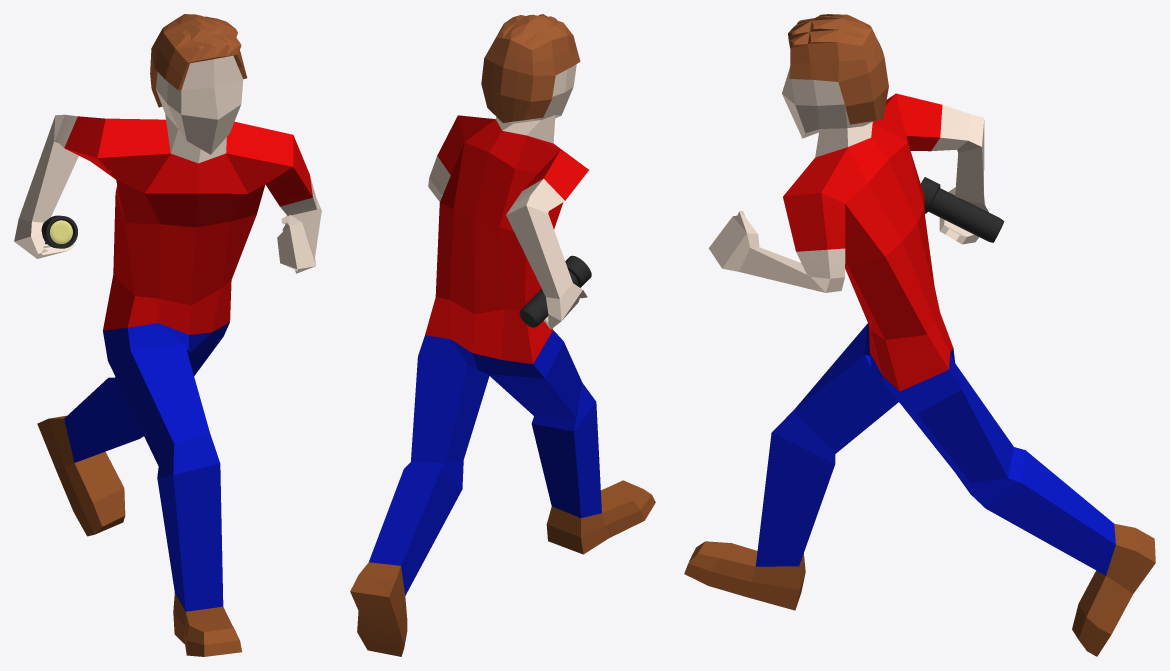
The model's file is Human_running_15.fbx.
The picture shows the model from 3 angles, left to right: view 1: azimuth 30°, elevation 25°; view 2: azimuth 150°, elevation 25°; view 3: azimuth 270°, elevation 25°; orthographic projection. The views are drawn at different scales.
Visible parts, largest first — view 1: Person.004, Flashlight; view 2: Person.004, Flashlight; view 3: Person.004, Flashlight.
Part boxes in pixels (left/top/right/bottom): Person.004: left=14, top=14, right=321, bottom=656; Flashlight: left=41, top=215, right=77, bottom=248; Person.004: left=350, top=14, right=655, bottom=656; Flashlight: left=519, top=255, right=591, bottom=327; Person.004: left=684, top=14, right=1155, bottom=656; Flashlight: left=921, top=177, right=1004, bottom=242.
Bounding box in the file's own units: 0.6016 × 1.53 × 1.06.
